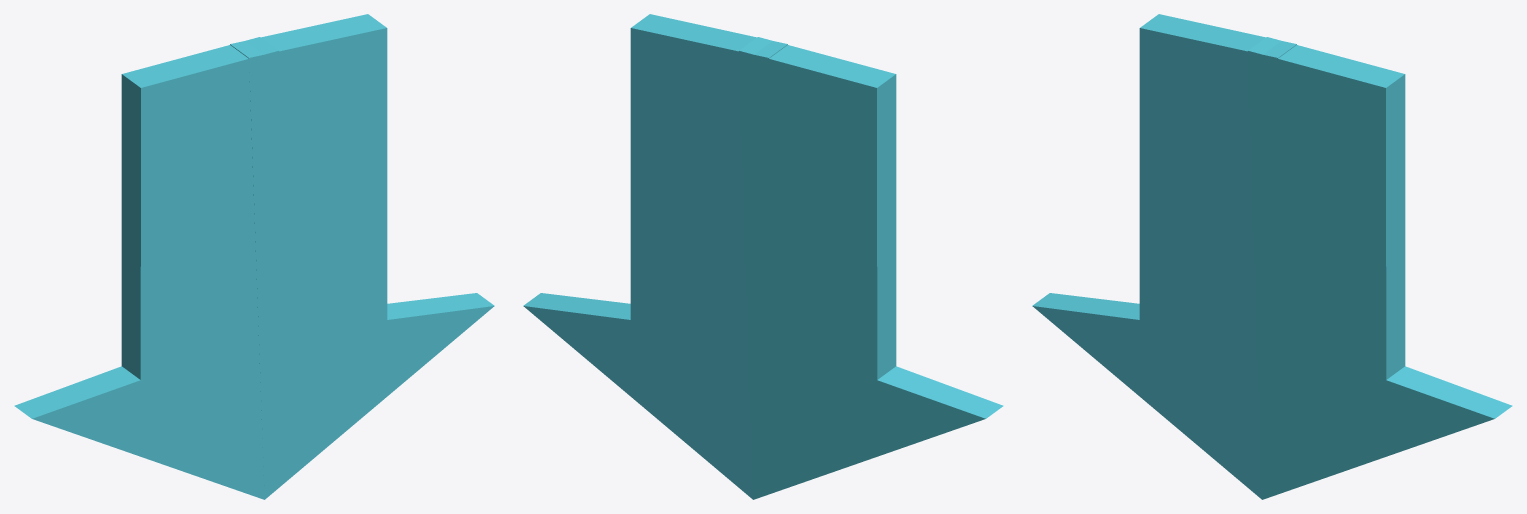
Rendered from bluearrow.fbx.
The picture shows the model from 3 angles, left to right: view 1: azimuth 30°, elevation 25°; view 2: azimuth 150°, elevation 25°; view 3: azimuth 330°, elevation 25°; orthographic projection.
Parts seen in each view (by area): view 1: Vert.004; view 2: Vert.004; view 3: Vert.004.
Boxes of the visible parts, x1=… form: Vert.004: x1=14, y1=14, x2=494, y2=499; Vert.004: x1=523, y1=14, x2=1003, y2=499; Vert.004: x1=1032, y1=14, x2=1512, y2=499.
Bounding box in the file's own units: 1313 × 1206 × 100.
